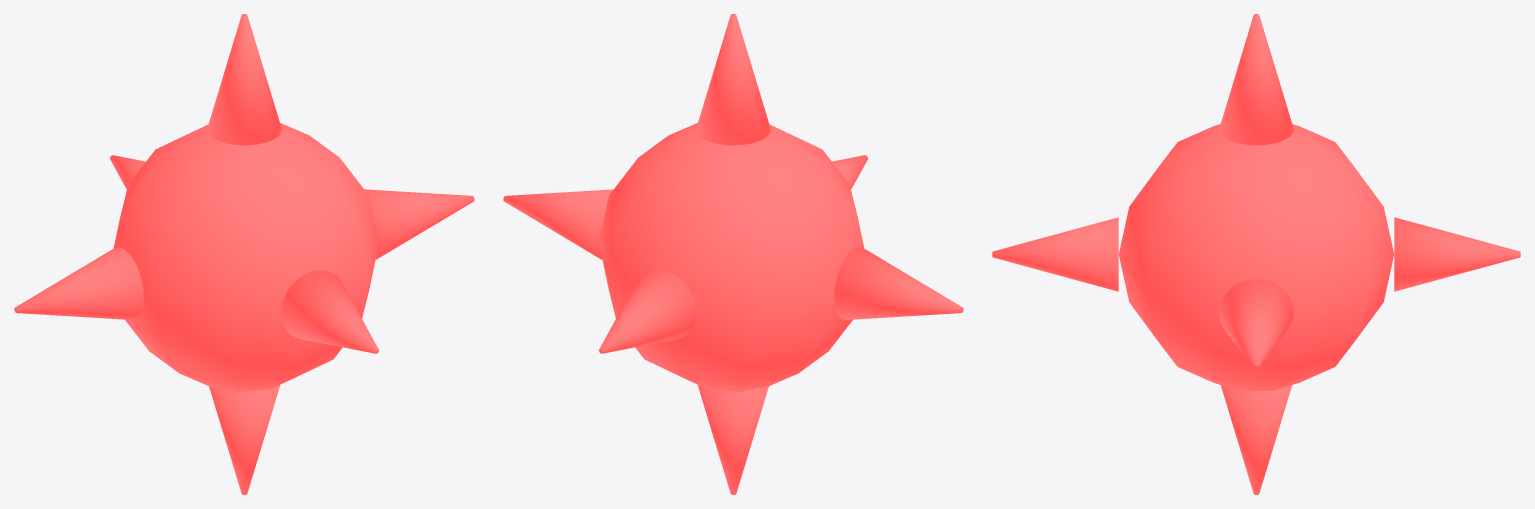
File: pu_bomb.glb
3 views of the same model, side by side, from view 1: azimuth 30°, elevation 25°; view 2: azimuth 150°, elevation 25°; view 3: azimuth 270°, elevation 25° (orthographic).
Parts seen in each view (by area): view 1: pu_bomb; view 2: pu_bomb; view 3: pu_bomb.
Part boxes in pixels (x1,y1,x2,y2): pu_bomb: (14, 14, 474, 494); pu_bomb: (503, 14, 963, 494); pu_bomb: (992, 14, 1520, 494).
Size of the model in its own units: 0.92 by 0.92 by 0.92.
